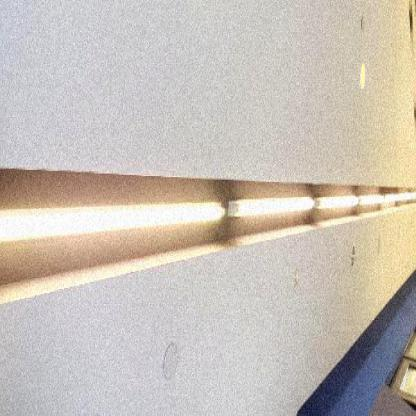light_on: (0, 183, 231, 274), (229, 175, 315, 236), (314, 187, 362, 222), (358, 190, 388, 217), (381, 187, 402, 219), (403, 190, 415, 209)
